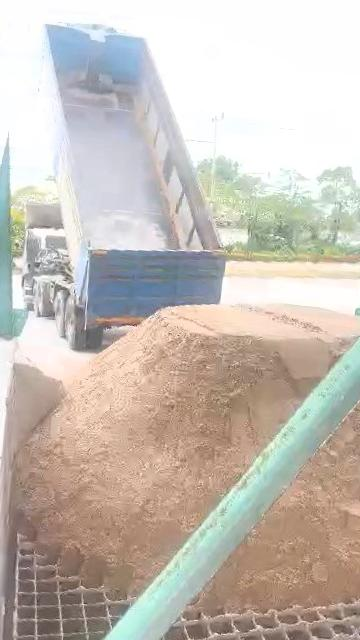sand: (17, 305, 360, 593), (202, 382, 360, 611), (7, 352, 63, 457)
